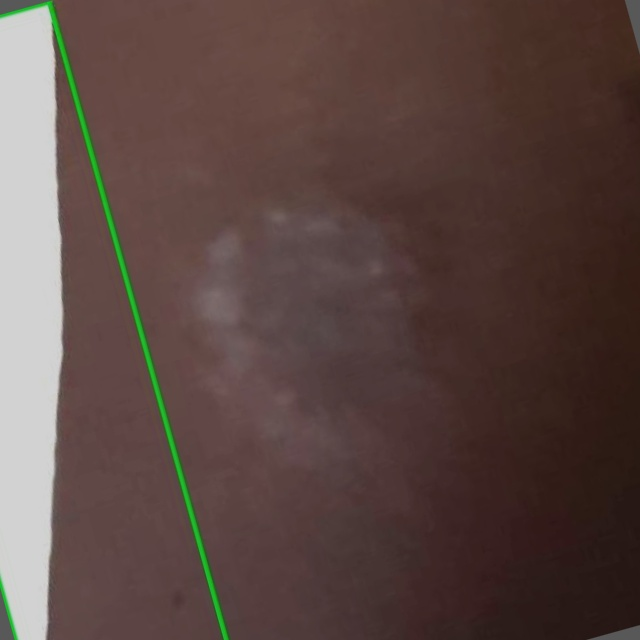Contact Dermatitis: (0, 2, 225, 639)
